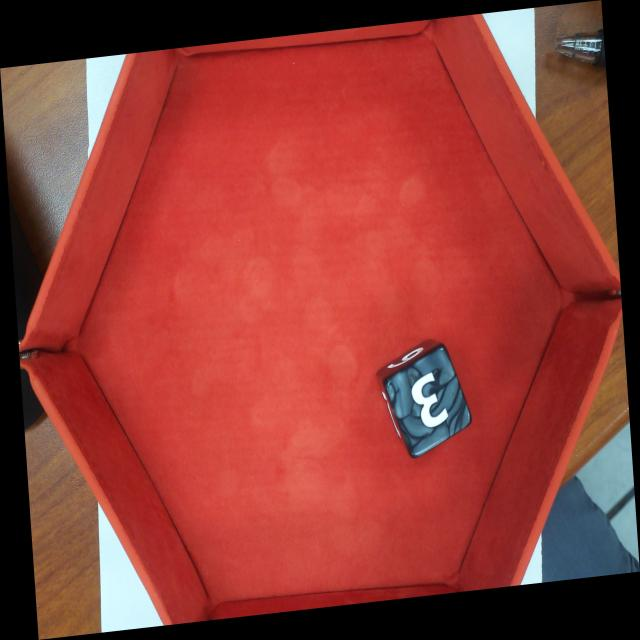dice: (381, 342, 474, 462)
